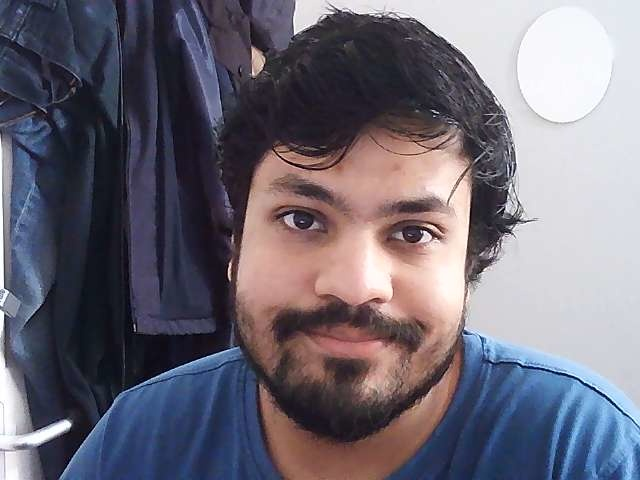Face: (216, 5, 512, 440)
